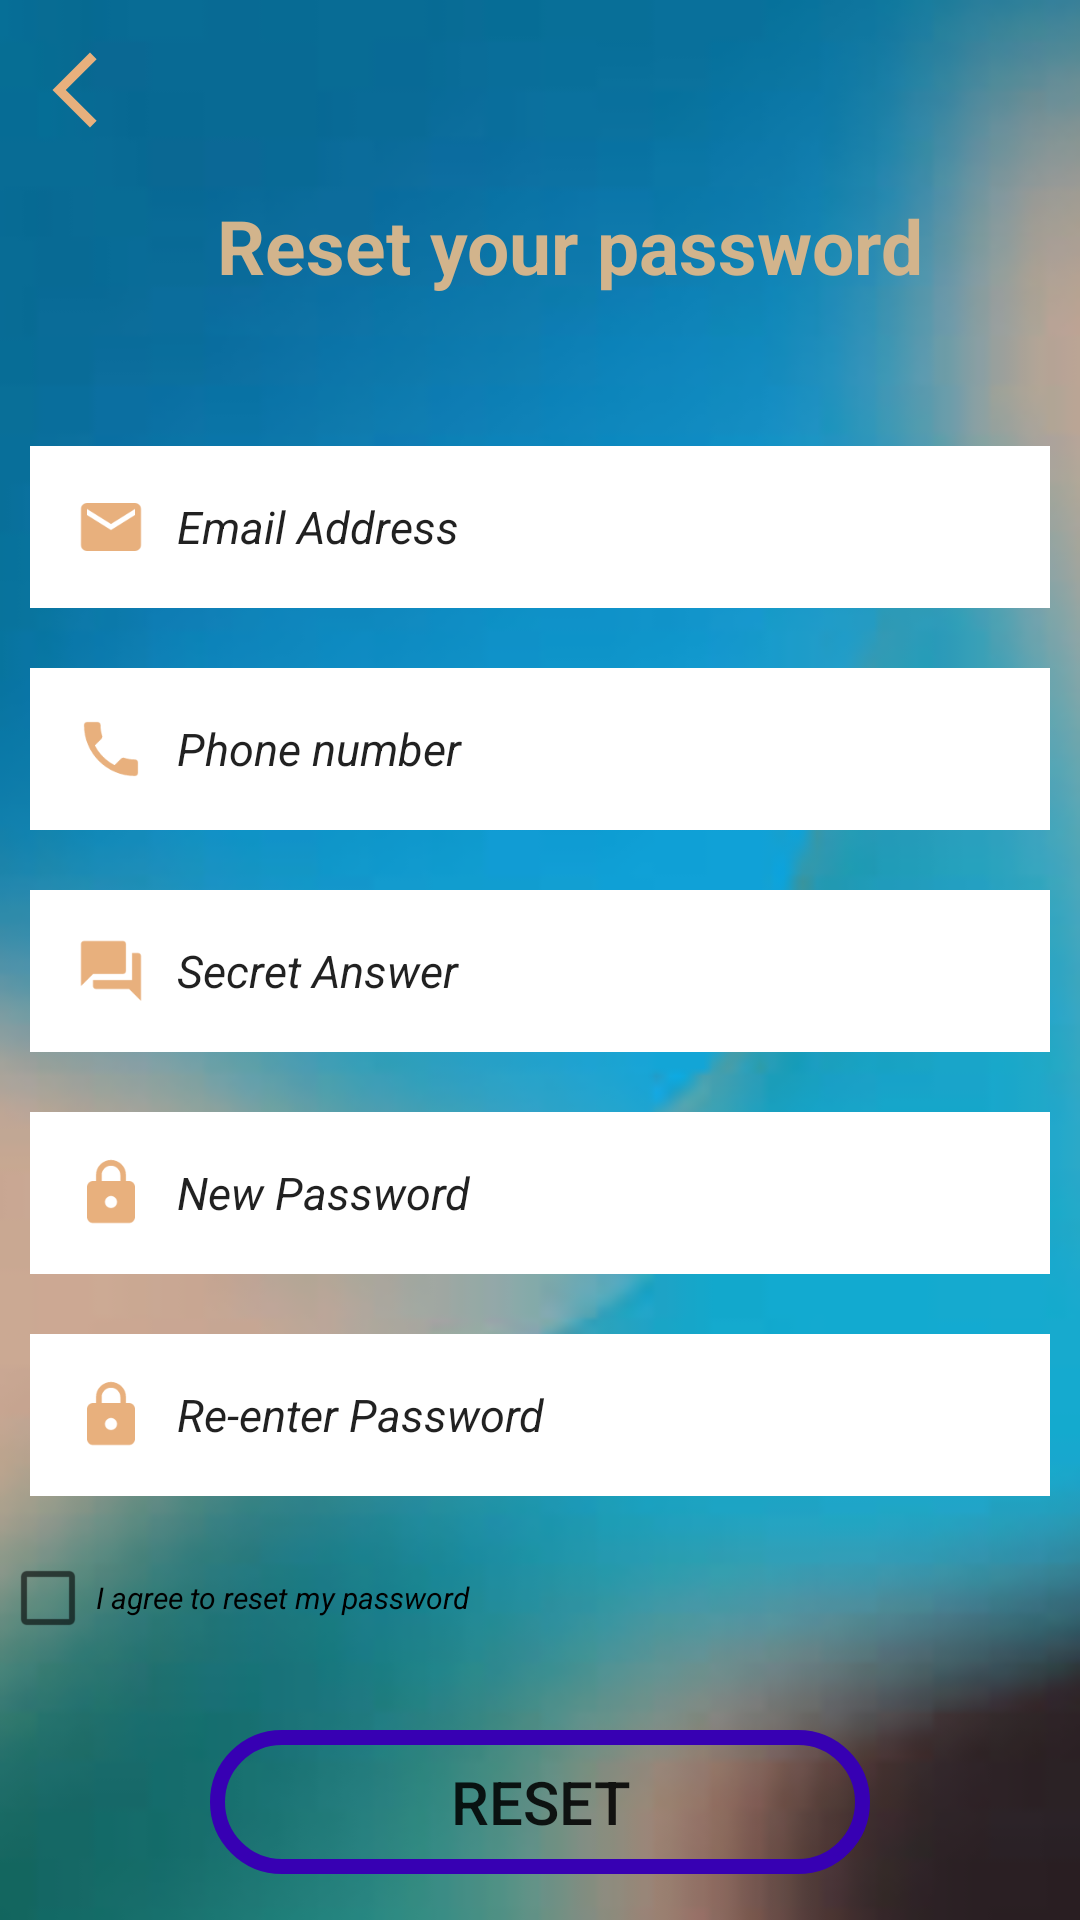

Where icons sit on this 1080 × 1920 app screen, as (x1, y1, x2, y2):
arrow back: (52, 52, 97, 128)
